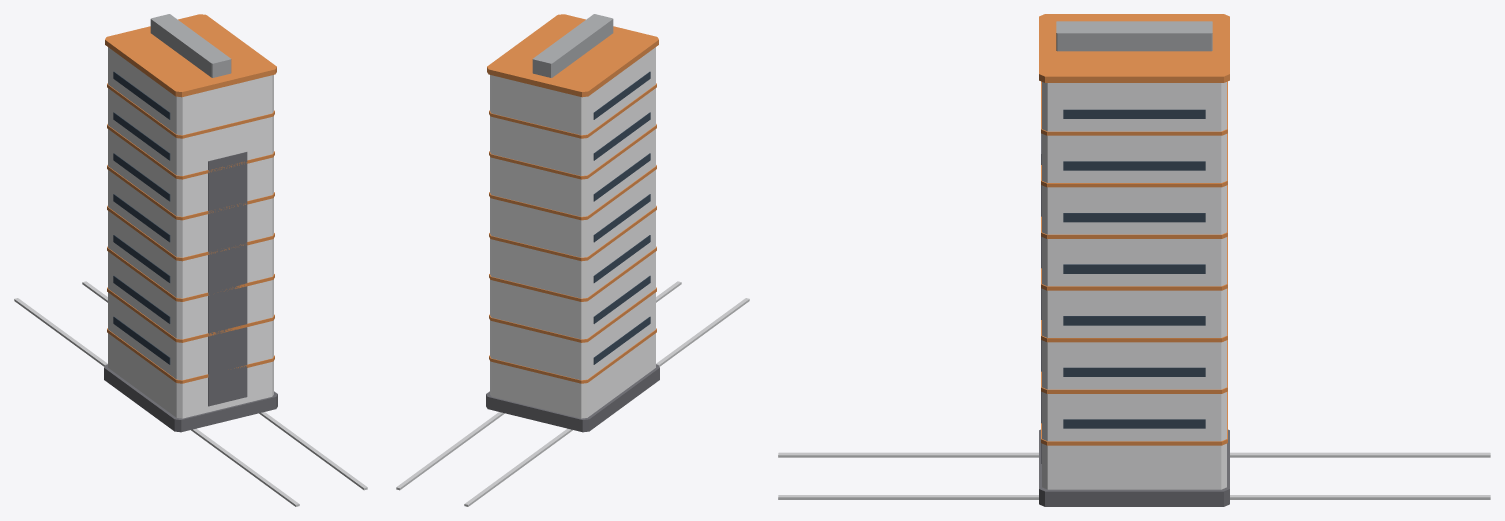
The model's file is torre-movel-integracao.fbx.
3 renders of one model, left to right at view 1: azimuth 30°, elevation 25°; view 2: azimuth 150°, elevation 25°; view 3: azimuth 270°, elevation 25°, orthographic. The views are drawn at different scales.
Parts seen in each view (by area): view 1: TMI; view 2: TMI; view 3: TMI.
Boxes of the visible parts, x1=… form: TMI: x1=14, y1=14, x2=367, y2=506; TMI: x1=396, y1=14, x2=749, y2=506; TMI: x1=778, y1=14, x2=1490, y2=506.
Bounding box in the file's own units: 10.6 × 34.9 × 50.
Materials: 1 (1 with a texture image).
